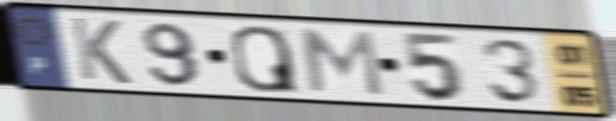3: (478, 37, 543, 105)
5: (397, 30, 471, 104)
9: (140, 20, 204, 90)
K: (67, 15, 135, 87)
M: (297, 26, 387, 99)
Q: (227, 23, 303, 95)
